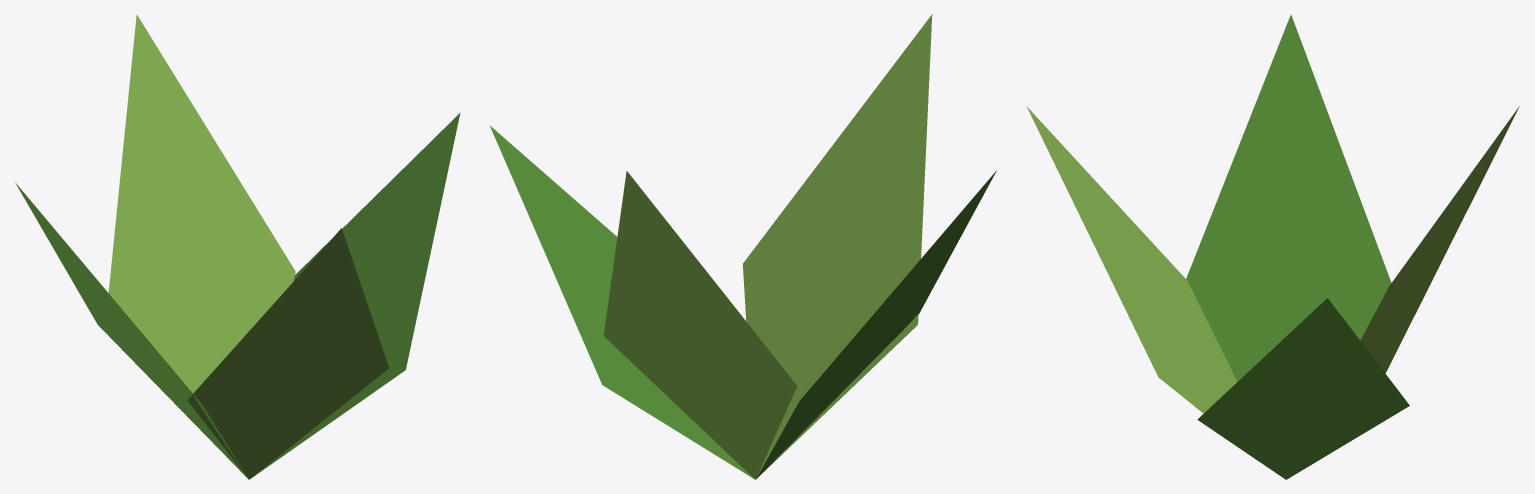
Rendered from turnip_s1.glb.
3 renders of one model, left to right at view 1: azimuth 30°, elevation 25°; view 2: azimuth 150°, elevation 25°; view 3: azimuth 270°, elevation 25°, orthographic. The views are drawn at different scales.
Parts seen in each view (by area): view 1: turnip; view 2: turnip; view 3: turnip.
Part boxes in pixels (x1,y1,x2,y2): turnip: (15, 14, 460, 479); turnip: (489, 14, 996, 479); turnip: (1026, 14, 1519, 479).
Size of the model in its own units: 0.1566 by 0.1221 by 0.1447.
